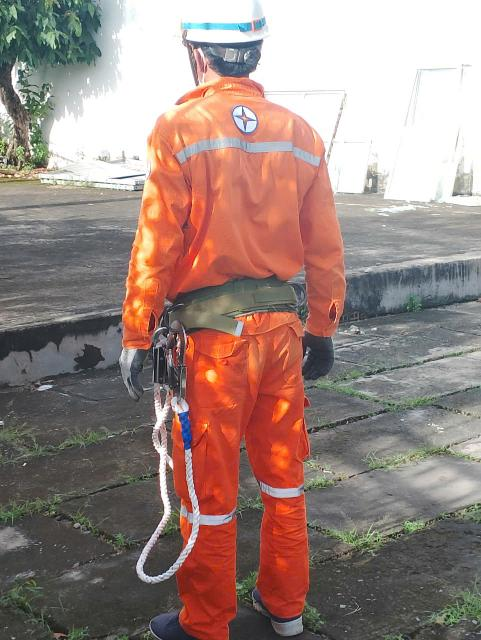gloves: (101, 340, 161, 406), (296, 325, 336, 382)
harness: (124, 263, 334, 343)
helmet: (147, 0, 289, 64)
shoes: (246, 571, 314, 640), (148, 599, 238, 640)
